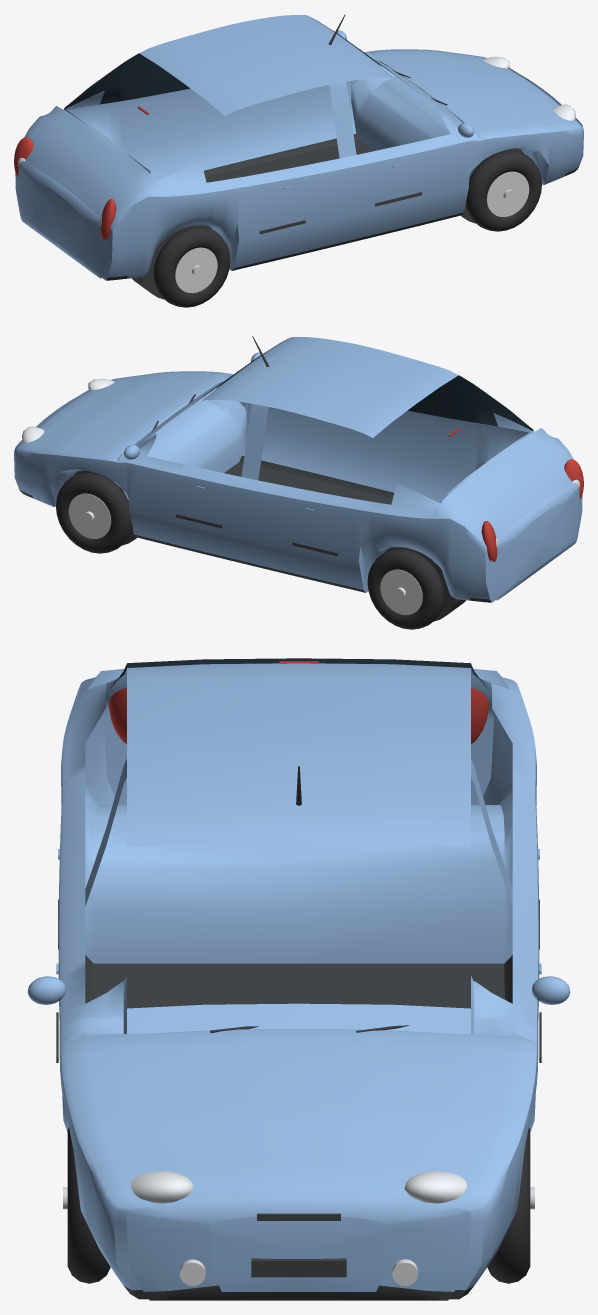
File: clio3.glb
The picture shows the model from 3 angles, top to bottom: view 1: azimuth 30°, elevation 25°; view 2: azimuth 150°, elevation 25°; view 3: azimuth 270°, elevation 25°; orthographic projection. The views are drawn at different scales.
Visible parts, largest first — view 1: Body, WheelRR, WheelFR, ArchTube.003, TaillightR.001, TaillightR; view 2: Body, WheelRL, WheelFL, ArchTube.002, TaillightR, TaillightR.001; view 3: Body, WheelFL, WheelFR, LowerIntake, HeadlightGlass, HeadlightGlass.001, MirrorShell, MirrorShell.001.
Boxes of the visible parts, x1=… form: Body: x1=15, y1=15, x2=583, y2=280; WheelRR: x1=153, y1=226, x2=230, y2=307; WheelFR: x1=465, y1=150, x2=541, y2=231; ArchTube.003: x1=132, y1=225, x2=212, y2=299; TaillightR.001: x1=100, y1=199, x2=116, y2=239; TaillightR: x1=14, y1=137, x2=33, y2=176; Body: x1=14, y1=337, x2=582, y2=602; WheelRL: x1=367, y1=548, x2=444, y2=629; WheelFL: x1=56, y1=472, x2=132, y2=553; ArchTube.002: x1=385, y1=547, x2=465, y2=621; TaillightR: x1=481, y1=521, x2=497, y2=561; TaillightR.001: x1=564, y1=459, x2=583, y2=498; Body: x1=58, y1=658, x2=539, y2=1300; WheelFL: x1=487, y1=1128, x2=534, y2=1283; WheelFR: x1=63, y1=1128, x2=110, y2=1283; LowerIntake: x1=251, y1=1258, x2=346, y2=1277; HeadlightGlass: x1=404, y1=1171, x2=466, y2=1203; HeadlightGlass.001: x1=131, y1=1171, x2=193, y2=1203; MirrorShell: x1=532, y1=976, x2=570, y2=1004; MirrorShell.001: x1=27, y1=976, x2=65, y2=1004.
Size of the model in its own units: 4.05 by 1.62 by 1.94.
